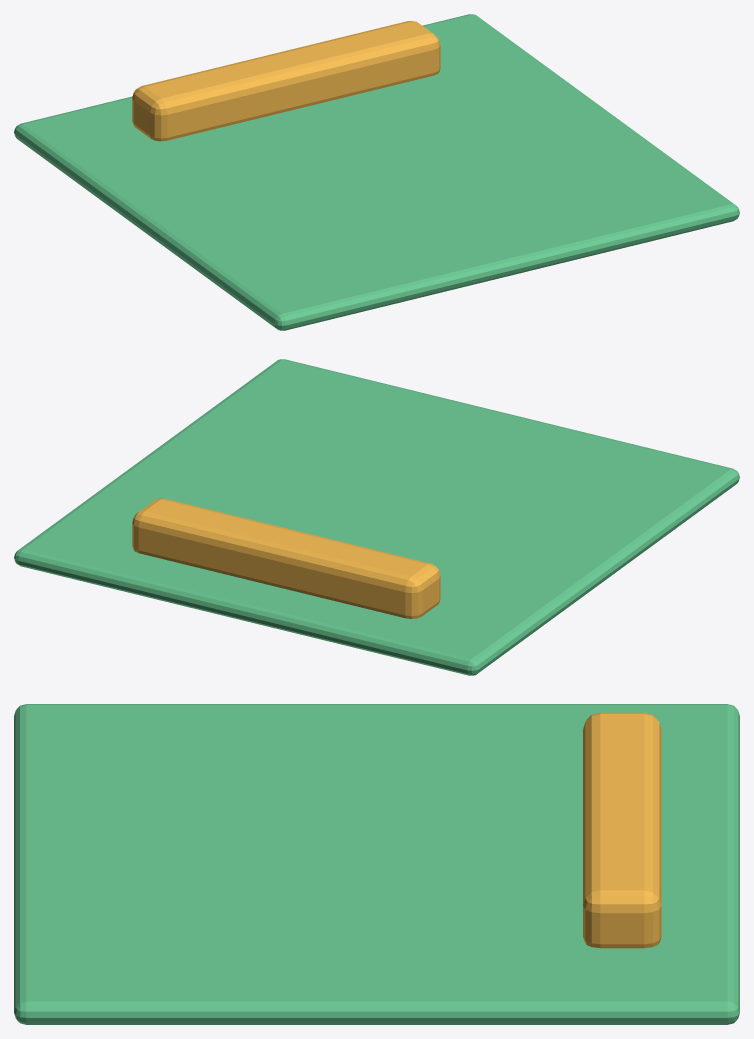
Rendered from BikeDock.fbx.
3 renders of one model, top to bottom at view 1: azimuth 30°, elevation 25°; view 2: azimuth 150°, elevation 25°; view 3: azimuth 270°, elevation 25°, orthographic. The views are drawn at different scales.
Parts seen in each view (by area): view 1: MAT_Delivery Geometry, MAT_Ochre Geometry.002; view 2: MAT_Delivery Geometry, MAT_Ochre Geometry.002; view 3: MAT_Delivery Geometry, MAT_Ochre Geometry.002.
Part boxes in pixels (box(x1,y1,x2,y2)): MAT_Delivery Geometry: box(14, 14, 739, 330); MAT_Ochre Geometry.002: box(132, 21, 440, 141); MAT_Delivery Geometry: box(14, 359, 739, 675); MAT_Ochre Geometry.002: box(132, 498, 440, 618); MAT_Delivery Geometry: box(14, 704, 739, 1024); MAT_Ochre Geometry.002: box(583, 712, 661, 948).
Bounding box in the file's own units: 148 × 16.5 × 148.
